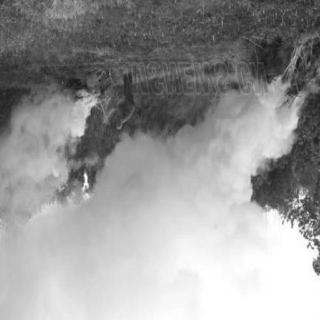Fire: (73, 91, 86, 123)
Smoke: (109, 96, 302, 240), (3, 200, 207, 318), (17, 99, 84, 168)
